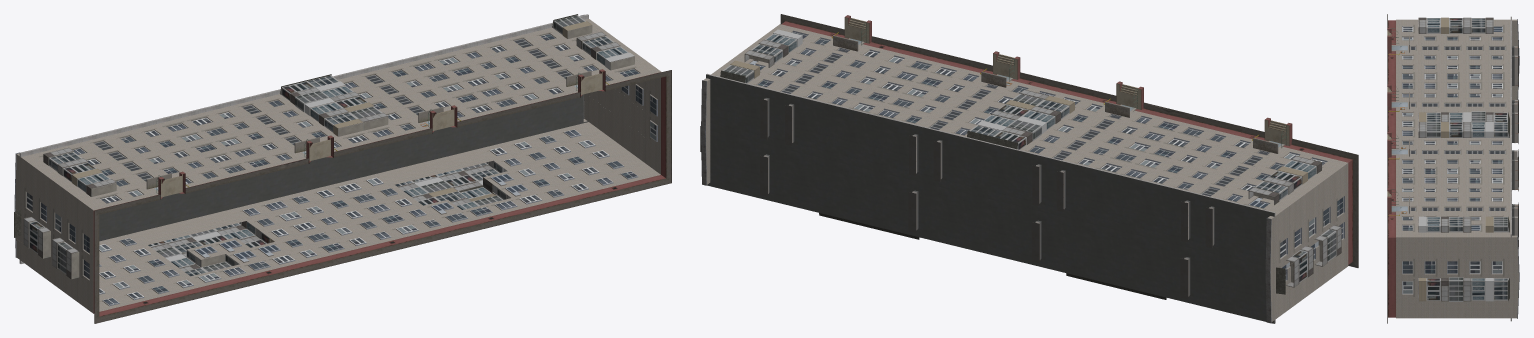
File: compressed_house.glb
The picture shows the model from 3 angles, left to right: view 1: azimuth 30°, elevation 25°; view 2: azimuth 150°, elevation 25°; view 3: azimuth 270°, elevation 25°; orthographic projection. The views are drawn at different scales.
Visible parts, largest first — view 1: House; view 2: House; view 3: House.
Boxes of the visible parts, box(x1,y1,x2,y2) form: House: box(14, 14, 671, 323); House: box(700, 14, 1358, 323); House: box(1387, 14, 1519, 323).
Bounding box in the file's own units: 33.17 × 7.2 × 8.27.
1 material, 1 textured.
